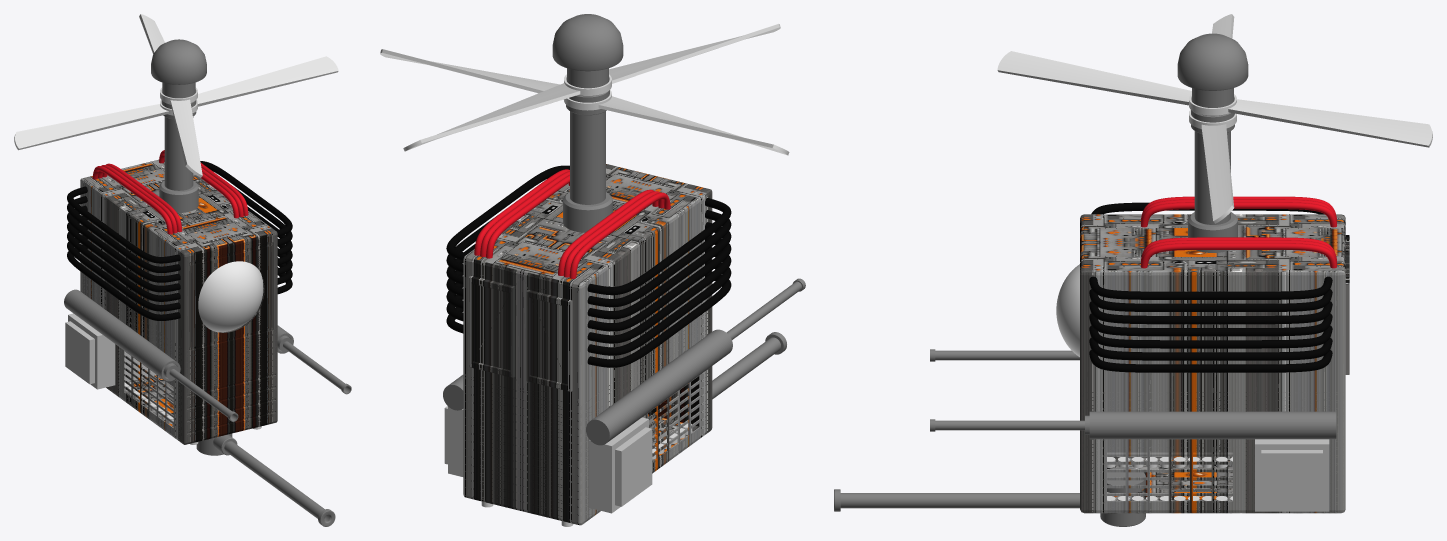
Rendered from Enemy_Turret.fbx.
The picture shows the model from 3 angles, left to right: view 1: azimuth 30°, elevation 25°; view 2: azimuth 150°, elevation 25°; view 3: azimuth 270°, elevation 25°; orthographic projection. The views are drawn at different scales.
Parts seen in each view (by area): view 1: Plane, NurbsPath.002, Cylinder, Blades, Cylinder.001, Cube, Cube.001, Cylinder.002, Blades.001, NurbsPath.001, NurbsPath; view 2: Plane, NurbsPath.002, Cylinder, Cylinder.001, Cube.001, Blades.001, Blades, NurbsPath.001, NurbsPath, Cylinder.002; view 3: Plane, NurbsPath.002, Cylinder.001, Blades.001, Cylinder, Cube.001, Cylinder.002, Blades, NurbsPath, NurbsPath.001, Cube, Cylinder.003.
Boxes of the visible parts, x1,y1,x2,y2 form: Plane: (80,159,277,444); NurbsPath.002: (67,161,292,320); Cylinder: (151,39,206,212); Blades: (14,56,338,150); Cylinder.001: (64,289,351,421); Cube: (198,261,263,332); Cube.001: (65,313,156,389); Cylinder.002: (196,433,335,526); Blades.001: (139,14,202,177); NurbsPath.001: (92,163,182,234); NurbsPath: (159,150,248,218); Plane: (463,164,712,525); NurbsPath.002: (446,165,731,367); Cylinder: (552,14,623,232); Cylinder.001: (443,278,805,445); Cube.001: (444,406,652,513); Blades.001: (403,24,780,151); Blades: (380,49,789,155); NurbsPath.001: (558,189,670,278); NurbsPath: (474,169,569,258); Cylinder.002: (643,332,786,435); Plane: (1080,214,1349,513); NurbsPath.002: (1089,202,1332,372); Cylinder.001: (930,349,1336,439); Blades.001: (997,51,1432,147); Cylinder: (1177,33,1248,252); Cube.001: (1255,439,1329,511); Cylinder.002: (834,467,1145,526); Blades: (1189,14,1236,223); NurbsPath: (1141,237,1336,268); NurbsPath.001: (1141,196,1336,227); Cube: (1056,264,1079,356); Cylinder.003: (1107,457,1232,500).
Size of the model in its own units: 353 by 398 by 451.
